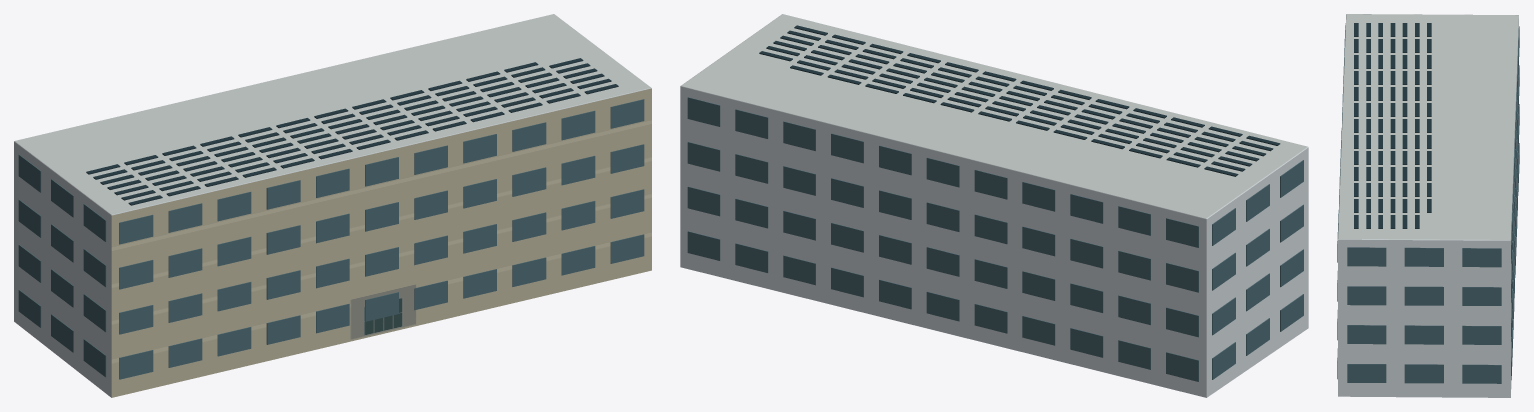
File: fragments.glb
The picture shows the model from 3 angles, left to right: view 1: azimuth 30°, elevation 25°; view 2: azimuth 150°, elevation 25°; view 3: azimuth 270°, elevation 25°; orthographic projection. The views are drawn at different scales.
Visible parts, largest first — view 1: SM_eng7_Fragment_017, SM_eng7_Fragment_003, SM_eng7_Fragment_056, SM_eng7_Fragment_009, SM_eng7_Fragment_028, SM_eng7_Fragment_051, SM_eng7_Fragment_042, SM_eng7_Fragment_012, SM_eng7_Fragment_059, SM_eng7_Fragment_043, SM_eng7_Fragment_054, SM_eng7_Fragment_020 (+27 smaller); view 2: SM_eng7_Fragment_004, SM_eng7_Fragment_021, SM_eng7_Fragment_037, SM_eng7_Fragment_010, SM_eng7_Fragment_049, SM_eng7_Fragment_061, SM_eng7_Fragment_001, SM_eng7_Fragment_035, SM_eng7_Fragment_019, SM_eng7_Fragment_052, SM_eng7_Fragment_038, SM_eng7_Fragment_033 (+29 smaller); view 3: SM_eng7_Fragment_031, SM_eng7_Fragment_008, SM_eng7_Fragment_002, SM_eng7_Fragment_063, SM_eng7_Fragment_005, SM_eng7_Fragment_041, SM_eng7_Fragment_032, SM_eng7_Fragment_039, SM_eng7_Fragment_013, SM_eng7_Fragment_033, SM_eng7_Fragment_025, SM_eng7_Fragment_010 (+19 smaller).
Part boxes in pixels (left/top/right/bottom): SM_eng7_Fragment_017: left=484, top=174, right=595, bottom=299; SM_eng7_Fragment_003: left=168, top=220, right=300, bottom=314; SM_eng7_Fragment_056: left=335, top=119, right=451, bottom=231; SM_eng7_Fragment_009: left=82, top=194, right=178, bottom=305; SM_eng7_Fragment_028: left=284, top=164, right=386, bottom=291; SM_eng7_Fragment_051: left=449, top=97, right=546, bottom=225; SM_eng7_Fragment_042: left=78, top=285, right=179, bottom=397; SM_eng7_Fragment_012: left=494, top=75, right=600, bottom=185; SM_eng7_Fragment_059: left=204, top=151, right=325, bottom=223; SM_eng7_Fragment_043: left=385, top=176, right=496, bottom=271; SM_eng7_Fragment_054: left=114, top=166, right=231, bottom=254; SM_eng7_Fragment_020: left=343, top=236, right=435, bottom=337; SM_eng7_Fragment_004: left=926, top=157, right=1033, bottom=288; SM_eng7_Fragment_021: left=815, top=120, right=925, bottom=219; SM_eng7_Fragment_037: left=1157, top=267, right=1253, bottom=397; SM_eng7_Fragment_010: left=722, top=67, right=835, bottom=165; SM_eng7_Fragment_049: left=1070, top=176, right=1173, bottom=295; SM_eng7_Fragment_061: left=734, top=154, right=835, bottom=259; SM_eng7_Fragment_001: left=1165, top=189, right=1243, bottom=294; SM_eng7_Fragment_035: left=1006, top=251, right=1103, bottom=368; SM_eng7_Fragment_019: left=1093, top=290, right=1176, bottom=390; SM_eng7_Fragment_052: left=680, top=87, right=744, bottom=184; SM_eng7_Fragment_038: left=1215, top=151, right=1290, bottom=275; SM_eng7_Fragment_033: left=927, top=119, right=1076, bottom=177; SM_eng7_Fragment_031: left=1365, top=213, right=1451, bottom=328; SM_eng7_Fragment_008: left=1337, top=271, right=1404, bottom=392; SM_eng7_Fragment_002: left=1404, top=291, right=1512, bottom=360; SM_eng7_Fragment_063: left=1413, top=214, right=1510, bottom=292; SM_eng7_Fragment_005: left=1340, top=133, right=1445, bottom=185; SM_eng7_Fragment_041: left=1422, top=342, right=1512, bottom=397; SM_eng7_Fragment_032: left=1337, top=215, right=1390, bottom=289; SM_eng7_Fragment_039: left=1408, top=147, right=1513, bottom=196; SM_eng7_Fragment_013: left=1342, top=87, right=1436, bottom=134; SM_eng7_Fragment_033: left=1436, top=90, right=1515, bottom=138; SM_eng7_Fragment_025: left=1393, top=23, right=1486, bottom=63; SM_eng7_Fragment_010: left=1431, top=181, right=1513, bottom=240.
Bounding box in the file's own units: 2.2 × 0.7169 × 0.7464.
6 materials, 1 textured.
